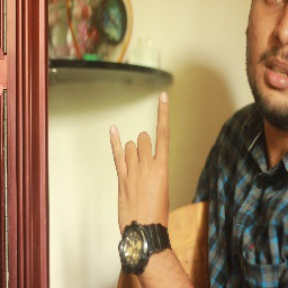V: (108, 89, 180, 228)
